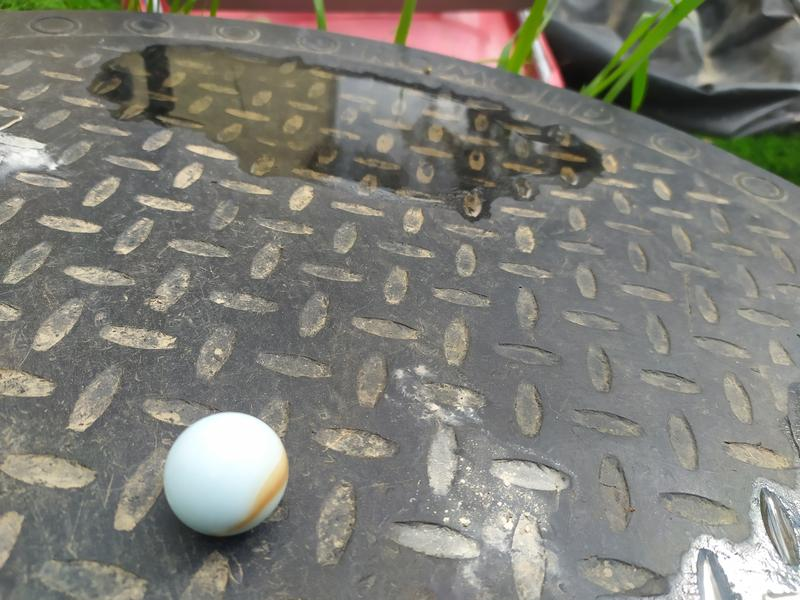Warning: (160, 408, 294, 540)
